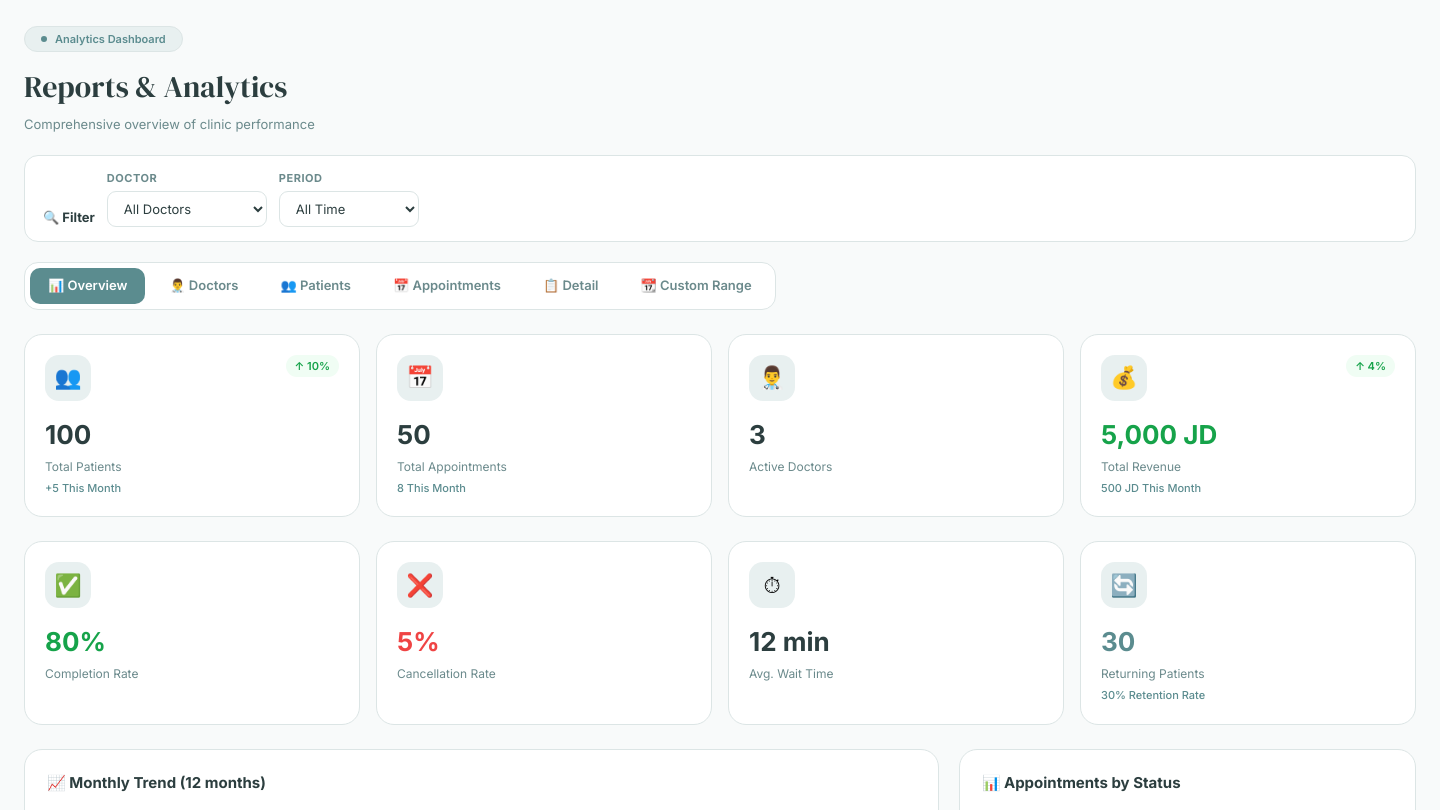
Test: Reports › switches to the Patients tab when patient report data is available
Expected: the text "Total Patients" is shown, [45,459,122,474]
Click the button "👥 Patients".
click(316, 286)  # box [262,268,369,304]
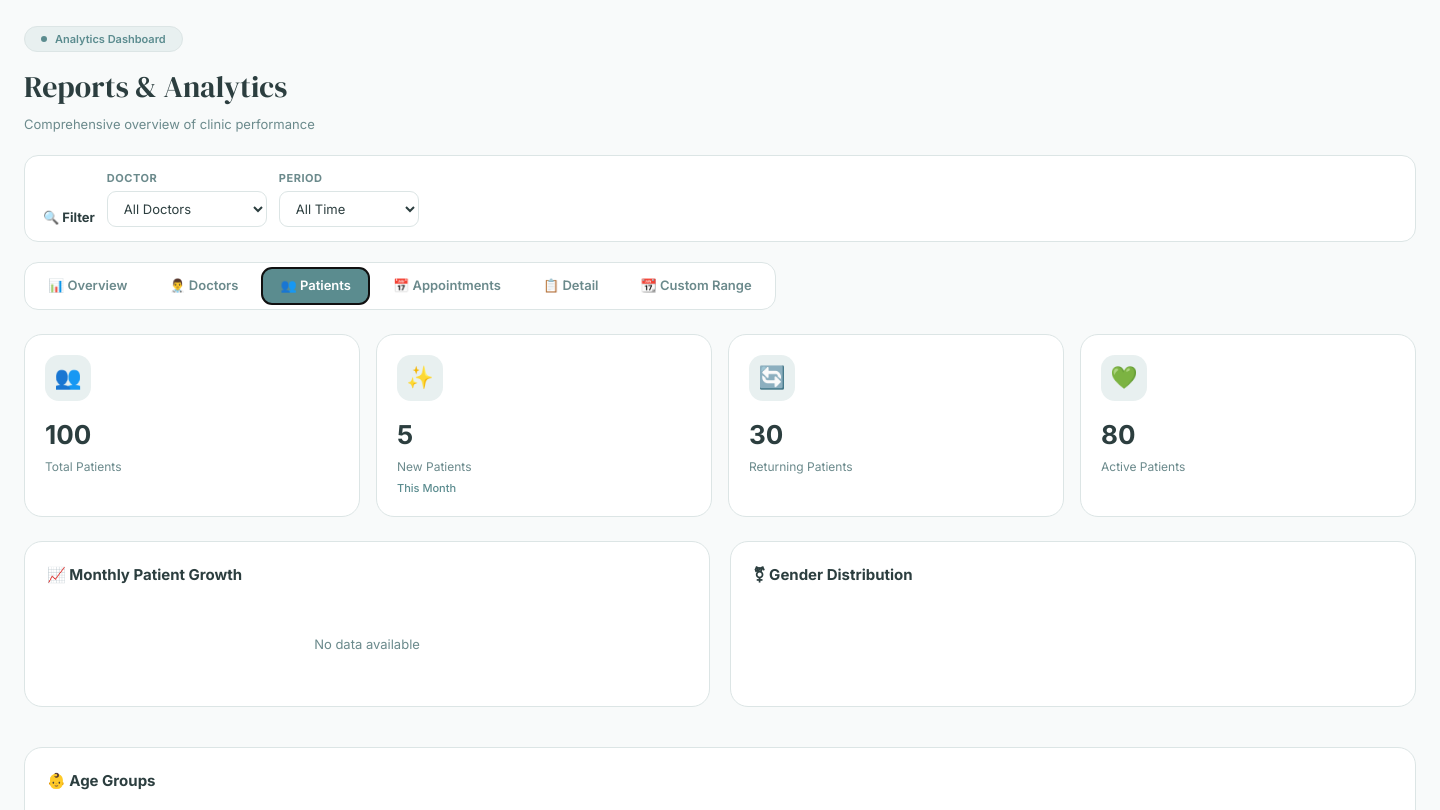
Result: the text "Active Patients" is shown at [1101,459,1185,474]
